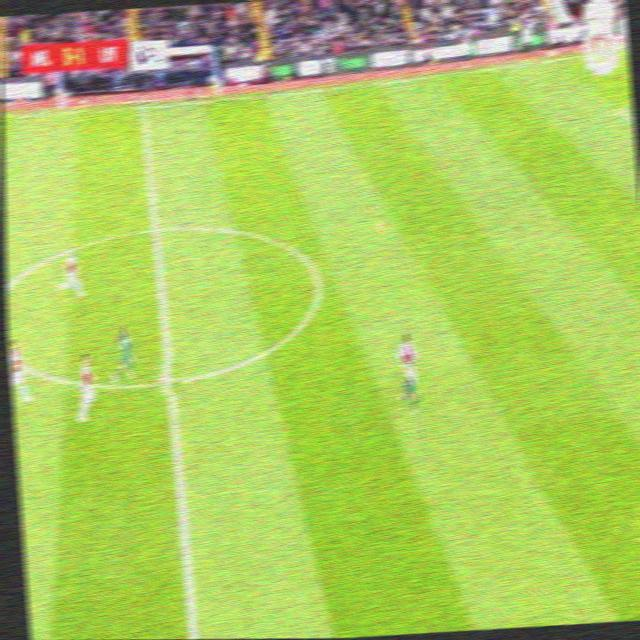bigarea_top_inner: (607, 97, 630, 122)
halfcircle_bottom: (154, 364, 183, 397)
halfcircle_top: (139, 212, 171, 248)
midline_top_intersection: (133, 94, 153, 120)
